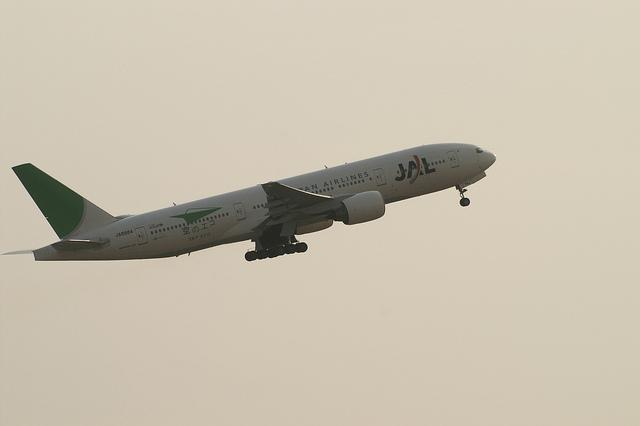airplane: (1, 135, 499, 277)
